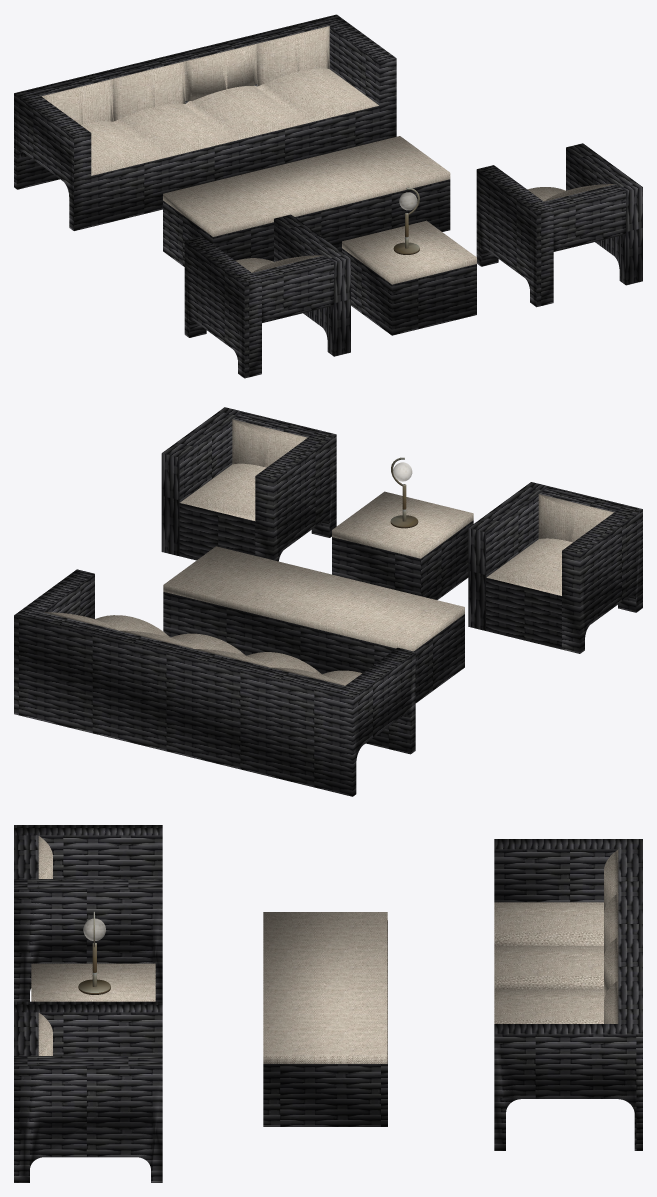
Rendered from salon_jardin.glb.
3 views of the same model, one above another, from view 1: azimuth 30°, elevation 25°; view 2: azimuth 150°, elevation 25°; view 3: azimuth 270°, elevation 25° (orthographic). The views are drawn at different scales.
Parts seen in each view (by area): view 1: Material2 (×2); view 2: Material2 (×3); view 3: Material2 (×3).
Part boxes in pixels (bbox=[...]): Material2 (×2): bbox=[14, 14, 642, 378]; Material2 (×3): bbox=[14, 407, 642, 796]; Material2 (×3): bbox=[14, 825, 642, 1182].
Bounding box in the file's own units: 228 × 65.31 × 252.
4 materials, 4 textured.
